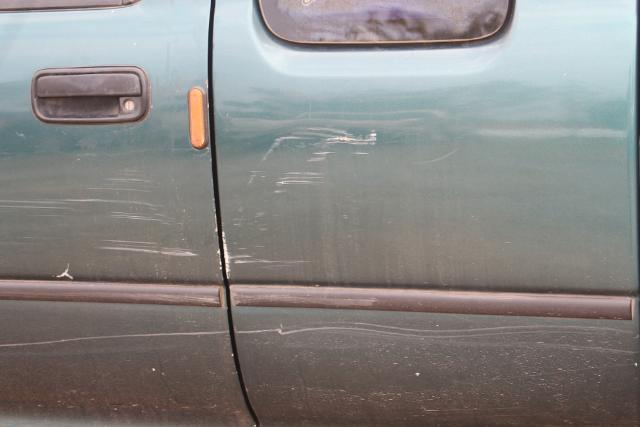Door: (6, 40, 640, 427)
